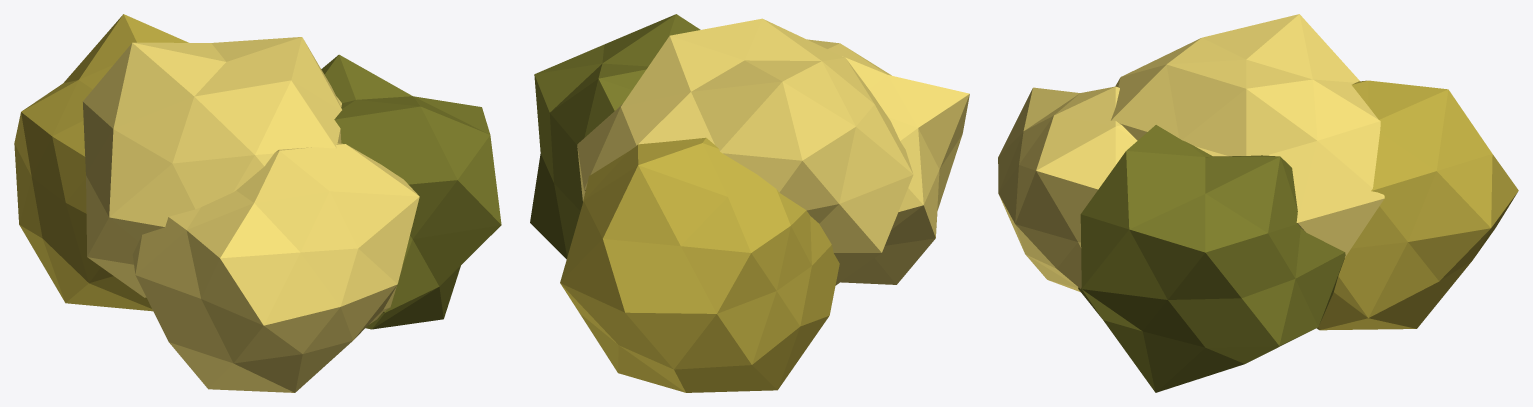
The model's file is bush_4.glb.
3 views of the same model, side by side, from view 1: azimuth 30°, elevation 25°; view 2: azimuth 150°, elevation 25°; view 3: azimuth 270°, elevation 25° (orthographic). The views are drawn at different scales.
Parts seen in each view (by area): view 1: bush_4; view 2: bush_4; view 3: bush_4.
Part boxes in pixels (bbox=[...]): bush_4: bbox=[14, 14, 501, 392]; bush_4: bbox=[530, 14, 969, 392]; bush_4: bbox=[998, 14, 1518, 392].
Size of what is drawn, in the model's own units: 1.71 by 1.22 by 2.13.
